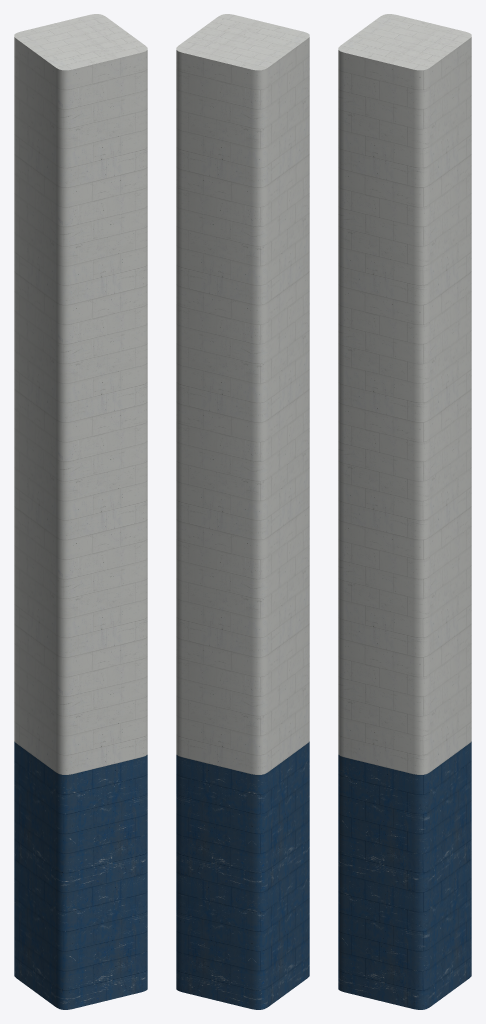
File: Warehouse_Column_Brick.FBX
3 views of the same model, side by side, from view 1: azimuth 30°, elevation 25°; view 2: azimuth 150°, elevation 25°; view 3: azimuth 330°, elevation 25° (orthographic).
Visible parts, largest first — view 1: Warehouse_Column_Brick; view 2: Warehouse_Column_Brick; view 3: Warehouse_Column_Brick.
Part boxes in pixels (x1,y1,x2,y2): Warehouse_Column_Brick: [14, 14, 147, 1009]; Warehouse_Column_Brick: [176, 14, 309, 1009]; Warehouse_Column_Brick: [338, 14, 471, 1009].
Bounding box in the file's own units: 32 × 320 × 32.
1 material, 1 textured.
